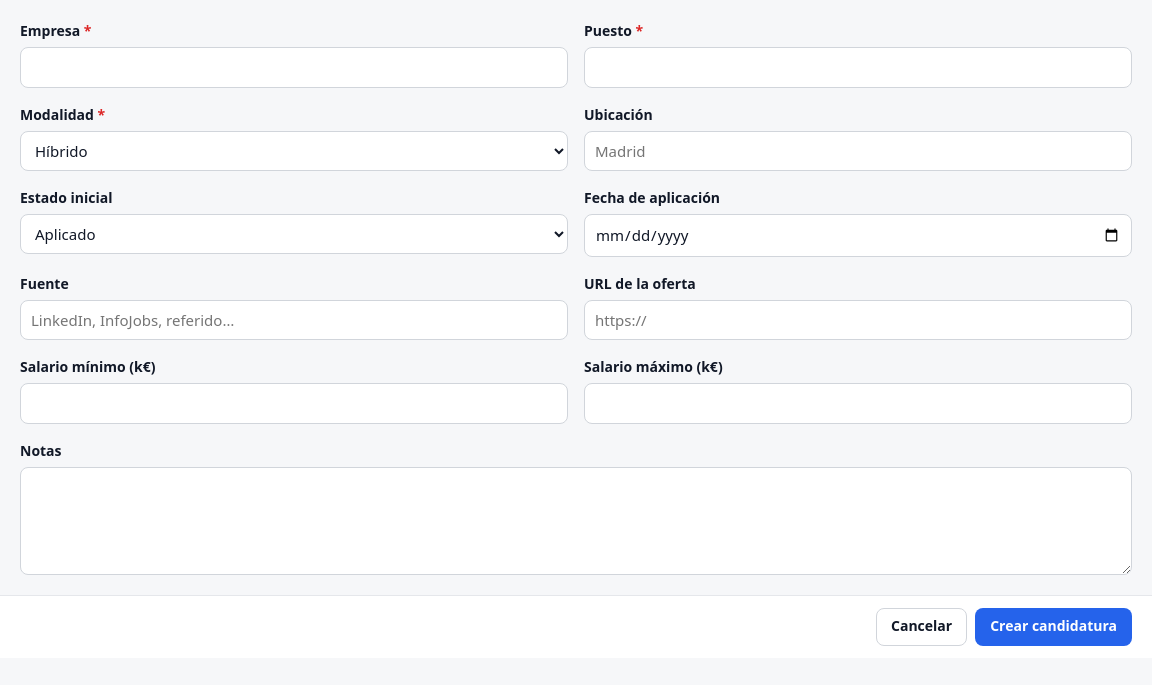
Test: ApplicationForm › shows the errors next to the fields and does not submit an invalid form
Type "empresa.com" into the field labelled "URL de la oferta". click: [858, 320]
box: x1=584 y1=300 x2=1132 y2=340
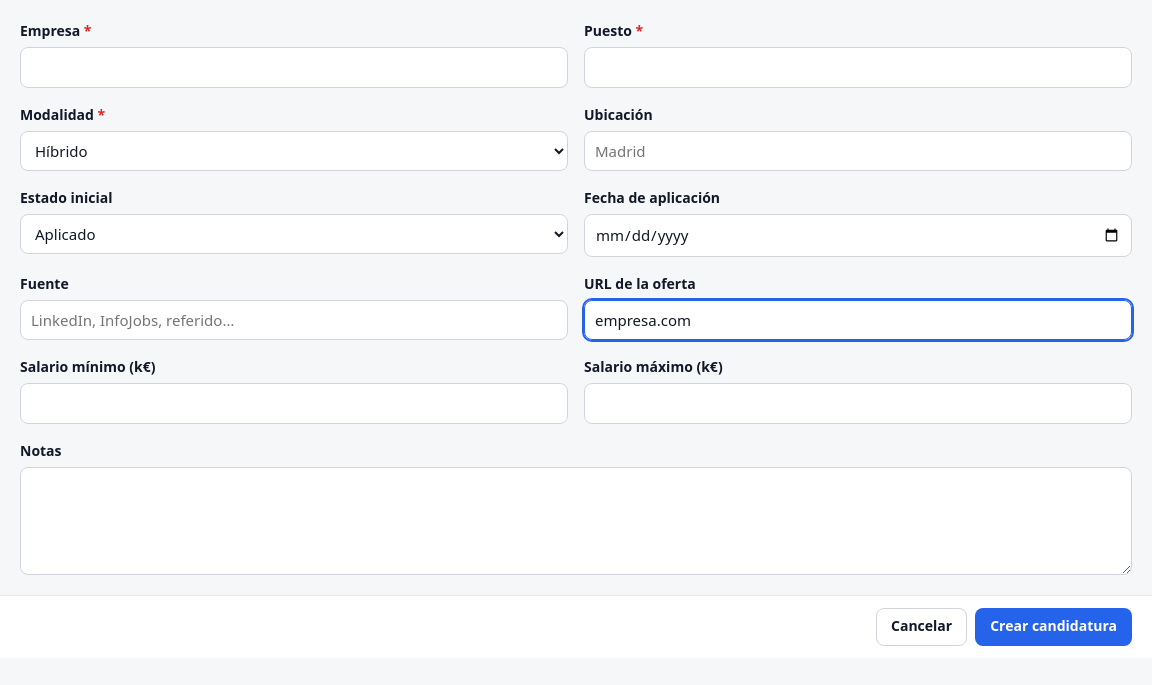
Type "40" into the number field labelled "Salario mínimo (k€)". click: [294, 403]
box: x1=20 y1=383 x2=568 y2=424
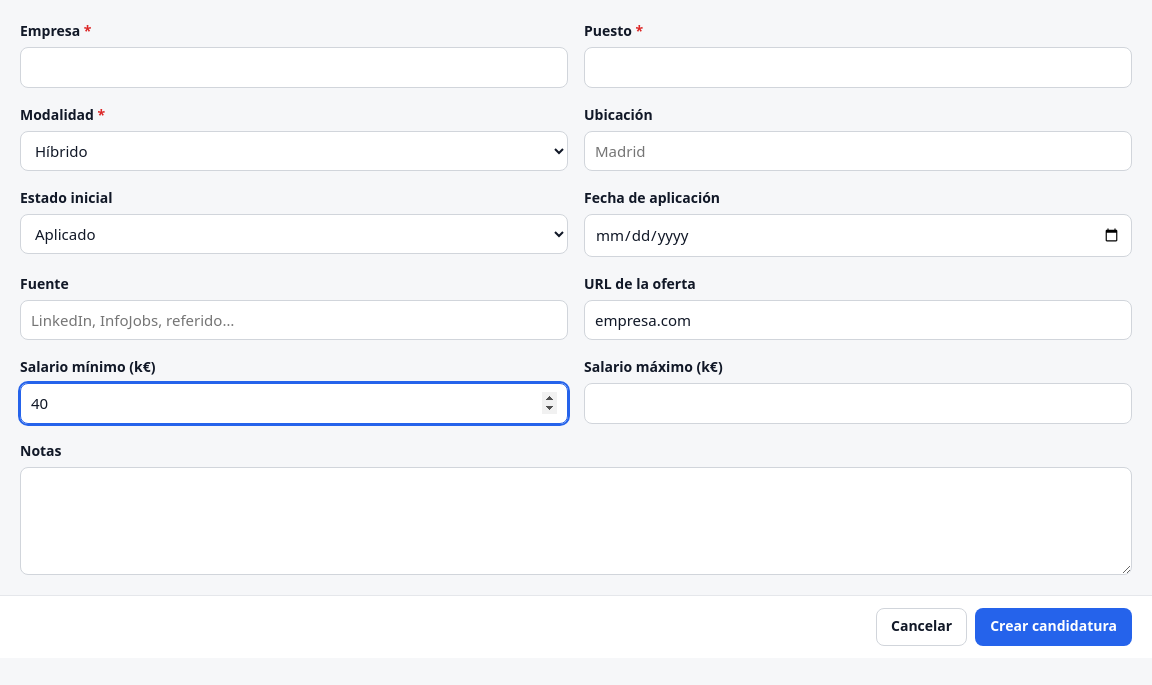
Type "30" into the number field labelled "Salario máximo (k€)". click: [858, 403]
box: x1=584 y1=383 x2=1132 y2=424
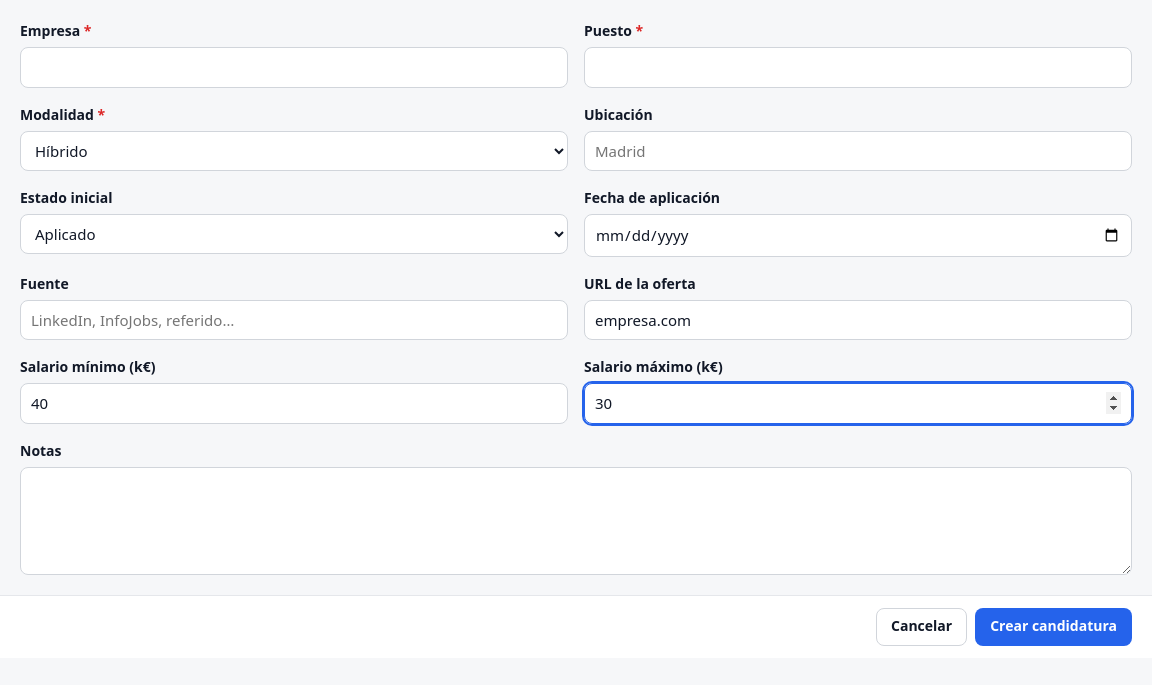
Click the button "Crear candidatura". click: [1054, 626]
box: x1=975 y1=608 x2=1132 y2=646
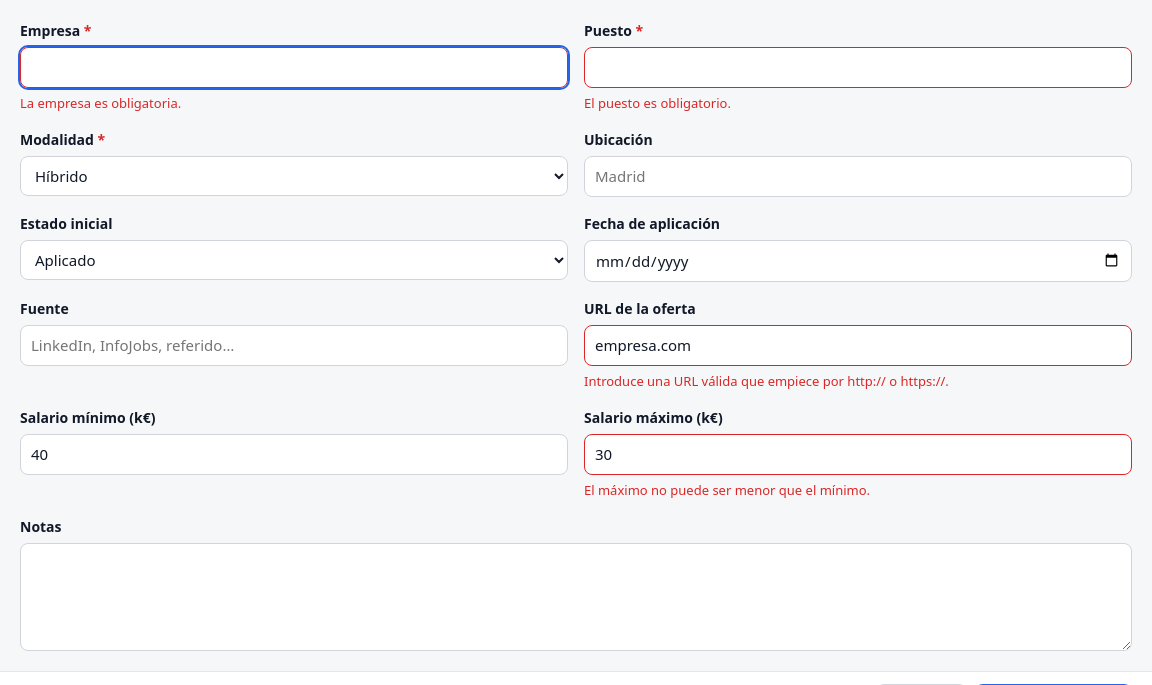
Check: the text "El puesto es obligatorio." is shown, box x1=584 y1=94 x2=731 y2=112
Check: the text "Introduce una URL válida que empiece por http:// o https://." is shown, box x1=584 y1=372 x2=949 y2=390
Check: the text "El máximo no puede ser menor que el mínimo." is shown, box x1=584 y1=480 x2=870 y2=498
